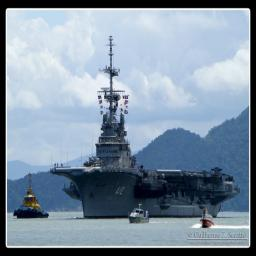Portanaves: (50, 34, 243, 223)
